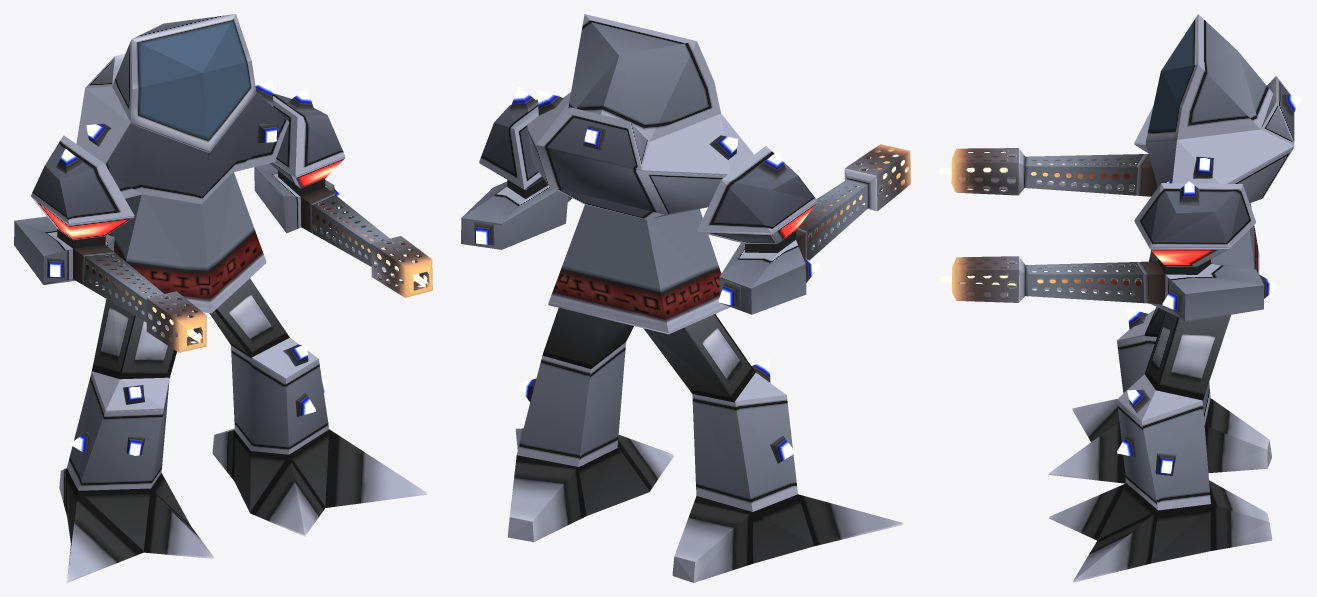
The model's file is mech_bones_skinrig_test.DAE.
The picture shows the model from 3 angles, left to right: view 1: azimuth 30°, elevation 25°; view 2: azimuth 150°, elevation 25°; view 3: azimuth 270°, elevation 25°; orthographic projection. The views are drawn at different scales.
Visible parts, largest first — view 1: Mech_1_nod, Mech_1_node_PIVOT_Pivot; view 2: Mech_1_nod, Mech_1_node_PIVOT_Pivot; view 3: Mech_1_nod, Mech_1_node_PIVOT_Pivot.
Part boxes in pixels (x1=…): Mech_1_nod: x1=14, y1=14, x2=432, y2=581; Mech_1_node_PIVOT_Pivot: x1=14, y1=92, x2=432, y2=582; Mech_1_nod: x1=461, y1=14, x2=910, y2=581; Mech_1_node_PIVOT_Pivot: x1=461, y1=92, x2=910, y2=582; Mech_1_nod: x1=939, y1=14, x2=1302, y2=581; Mech_1_node_PIVOT_Pivot: x1=939, y1=98, x2=1302, y2=582.
Bounding box in the file's own units: 1.68 × 2.08 × 1.49.
